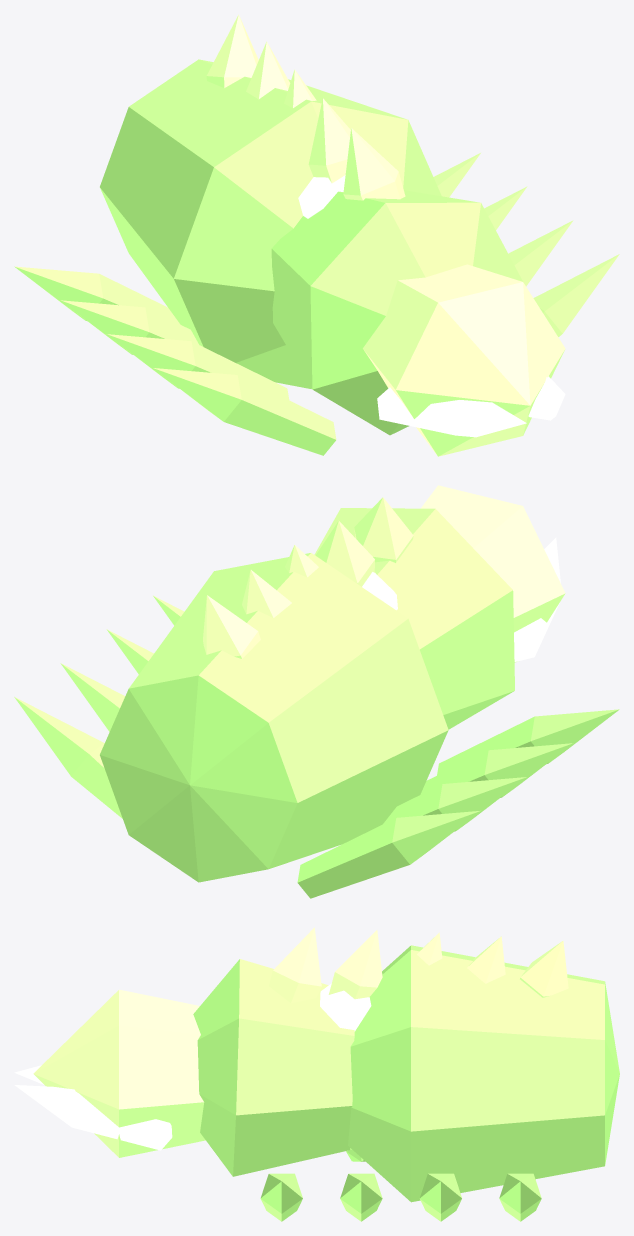
Rendered from deep-fracture-creature-Burrower-venom.glb.
3 renders of one model, top to bottom at view 1: azimuth 30°, elevation 25°; view 2: azimuth 150°, elevation 25°; view 3: azimuth 270°, elevation 25°, orthographic. The views are drawn at different scales.
Parts seen in each view (by area): view 1: armored-abdomen, armored-thorax, drill-head, dig-leg-l3, drill-left, dig-leg-l2, dig-leg-l0, dig-leg-l1, back-plate4, dig-leg-r3, back-plate3, back-plate0 (+7 smaller); view 2: armored-abdomen, armored-thorax, drill-head, dig-leg-l0, dig-leg-r0, dig-leg-l3, dig-leg-l2, dig-leg-l1, back-plate4, back-plate0, back-plate3, dig-leg-r1 (+5 smaller); view 3: armored-abdomen, armored-thorax, drill-head, drill-right, back-plate4, back-plate3, back-plate0, dig-leg-r3, dig-leg-r0, dig-leg-r1, dig-leg-r2, armor-core (+2 smaller).
Boxes of the visible parts, box(x1,y1,x2,y2) form: armored-abdomen: box(100, 59, 441, 388); armored-thorax: box(271, 190, 522, 435); drill-head: box(363, 264, 565, 456); dig-leg-l3: box(153, 368, 336, 455); drill-left: box(377, 387, 526, 437); dig-leg-l2: box(106, 334, 289, 399); dig-leg-l0: box(14, 266, 180, 324); dig-leg-l1: box(60, 300, 198, 354); back-plate4: box(343, 128, 405, 200); dig-leg-r3: box(533, 254, 619, 336); back-plate3: box(308, 98, 350, 183); back-plate0: box(206, 14, 258, 87); armored-abdomen: box(100, 553, 448, 882); armored-thorax: box(314, 508, 514, 729); drill-head: box(421, 485, 565, 662); dig-leg-l0: box(297, 810, 480, 898); dig-leg-r0: box(14, 697, 122, 818); dig-leg-l3: box(437, 709, 619, 775); dig-leg-l2: box(420, 743, 573, 797); dig-leg-l1: box(383, 777, 526, 831); back-plate4: box(354, 497, 413, 562); back-plate0: box(203, 595, 260, 658); back-plate3: box(316, 520, 374, 586); dig-leg-r1: box(60, 663, 124, 731); armored-abdomen: box(348, 945, 619, 1202); armored-thorax: box(193, 959, 354, 1176); drill-head: box(33, 989, 205, 1157); drill-right: box(14, 1085, 172, 1150); back-plate4: box(269, 927, 321, 1002); back-plate3: box(328, 930, 382, 999); back-plate0: box(520, 941, 568, 997); dig-leg-r3: box(260, 1173, 302, 1221); dig-leg-r0: box(499, 1173, 541, 1221); dig-leg-r1: box(419, 1173, 461, 1221); dig-leg-r2: box(340, 1173, 382, 1221); armor-core: box(320, 983, 371, 1031).
Bounding box in the file's own units: 1.87 × 1.18 × 2.44.
